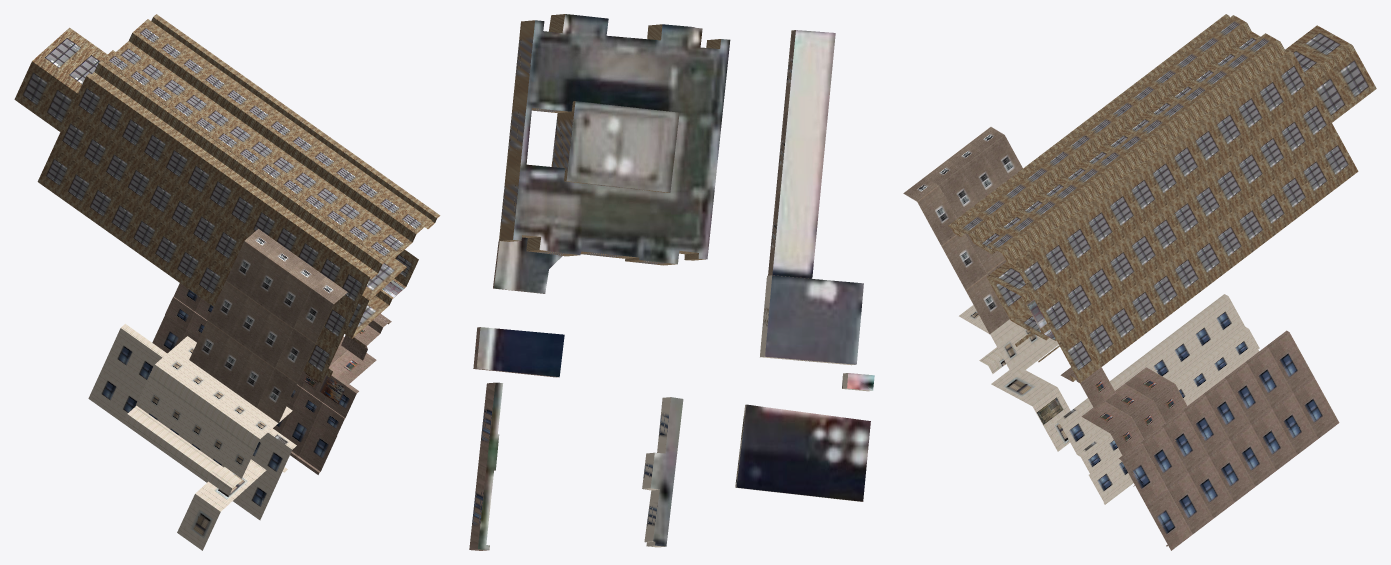
3 renders of one model, left to right at view 1: azimuth 30°, elevation 25°; view 2: azimuth 150°, elevation 25°; view 3: azimuth 270°, elevation 25°, orthographic. The views are drawn at different scales.
Bounding box in the file's own units: 38.96 × 58.71 × 55.96.
36 materials, 36 textured.
